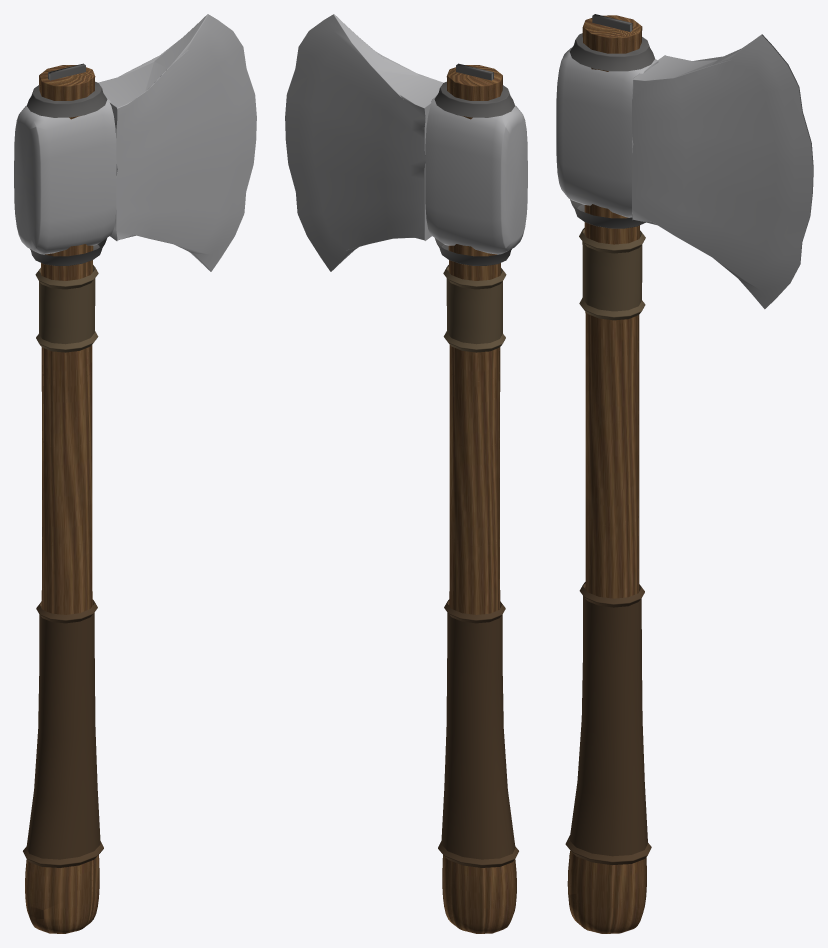
The model's file is gear_frontier_hatchet.glb.
3 views of the same model, side by side, from view 1: azimuth 30°, elevation 25°; view 2: azimuth 150°, elevation 25°; view 3: azimuth 330°, elevation 25° (orthographic). The views are drawn at different scales.
Parts seen in each view (by area): view 1: gear_frontier_hatchet; view 2: gear_frontier_hatchet; view 3: gear_frontier_hatchet.
Part boxes in pixels (bbox=[...]): gear_frontier_hatchet: bbox=[14, 14, 256, 933]; gear_frontier_hatchet: bbox=[285, 14, 527, 933]; gear_frontier_hatchet: bbox=[556, 14, 813, 933].
Bounding box in the file's own units: 0.1613 × 0.5832 × 0.042.
5 materials, 1 textured.
